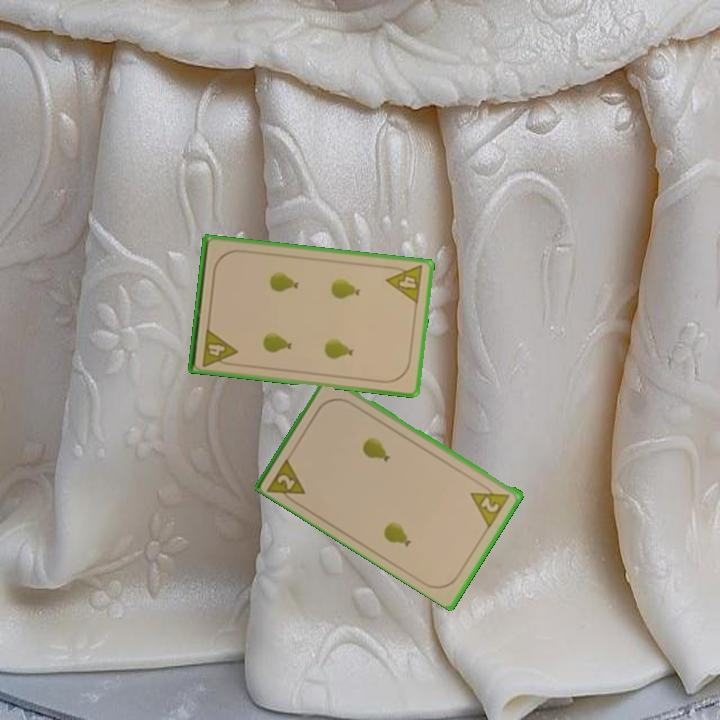2p: (264, 453, 309, 508), (467, 479, 513, 529)
4p: (383, 262, 426, 307), (199, 325, 240, 369)
